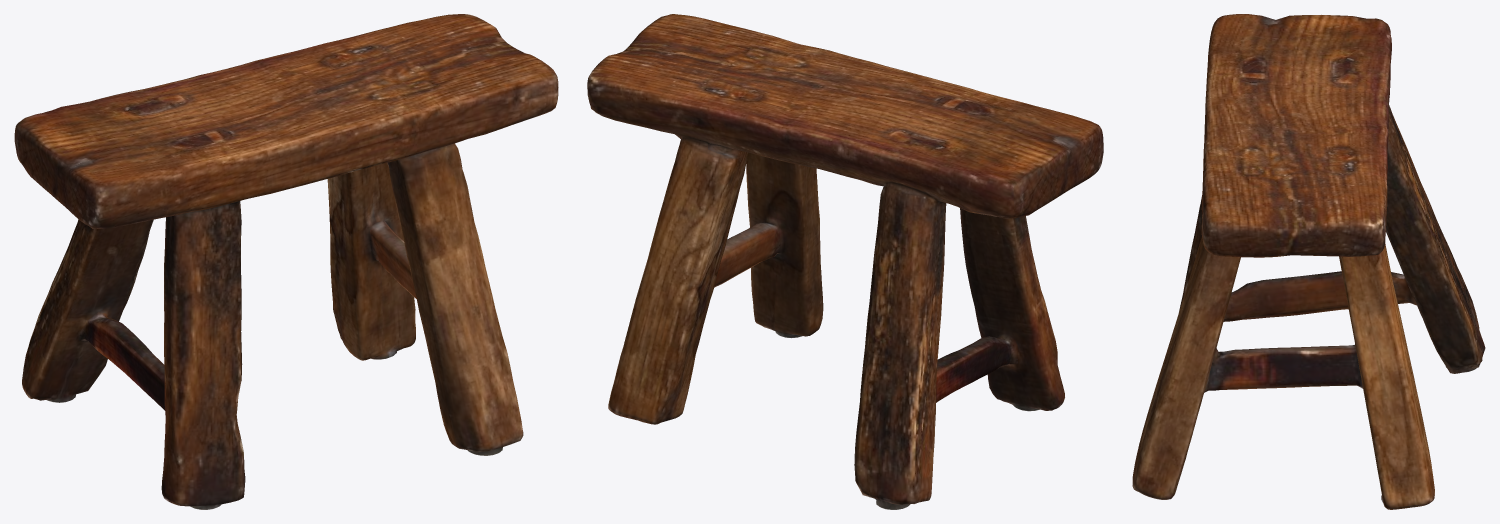
The model's file is wooden_stool_02.glb.
3 renders of one model, left to right at view 1: azimuth 30°, elevation 25°; view 2: azimuth 150°, elevation 25°; view 3: azimuth 270°, elevation 25°, orthographic. The views are drawn at different scales.
Bounding box in the file's own units: 0.2652 × 0.1819 × 0.1831.
1 material, 1 textured.
